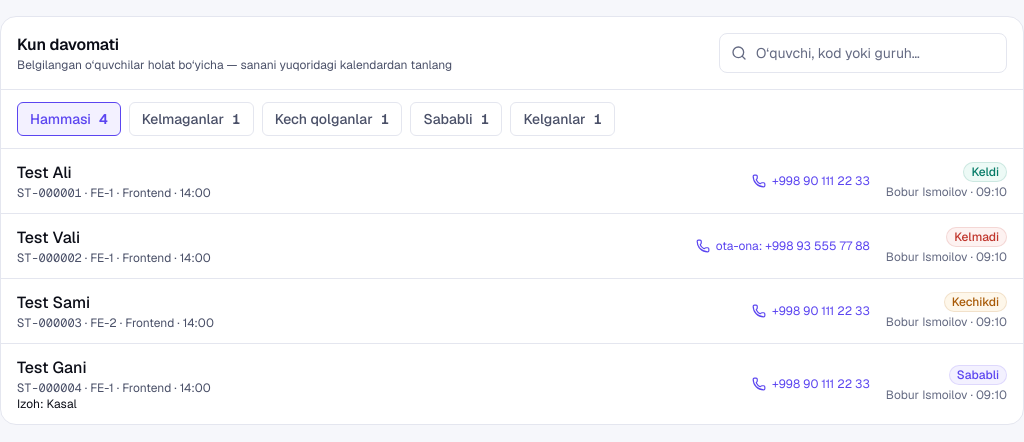
Test: Kun davomati ro‘yxati › tanlangan kun yuklanadi; holat bo‘yicha filtr soni bilan ishlaydi
Expected: the link "Test Ali" is shown, top-left (17, 162), bottom-right (72, 183)
Click the button "Kelmaganlar 1".
click(191, 119)  # box top-left (129, 102), bottom-right (254, 136)
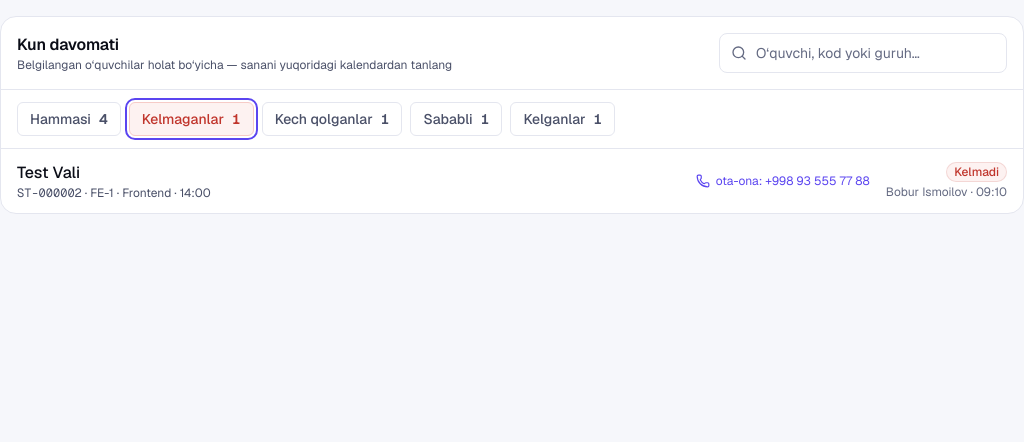
Expected: the link "Test Vali" is shown, top-left (17, 162), bottom-right (80, 183)
Result: the link "Test Ali" is gone
Click the button "Sababli 1".
click(456, 119)  # box top-left (410, 102), bottom-right (502, 136)
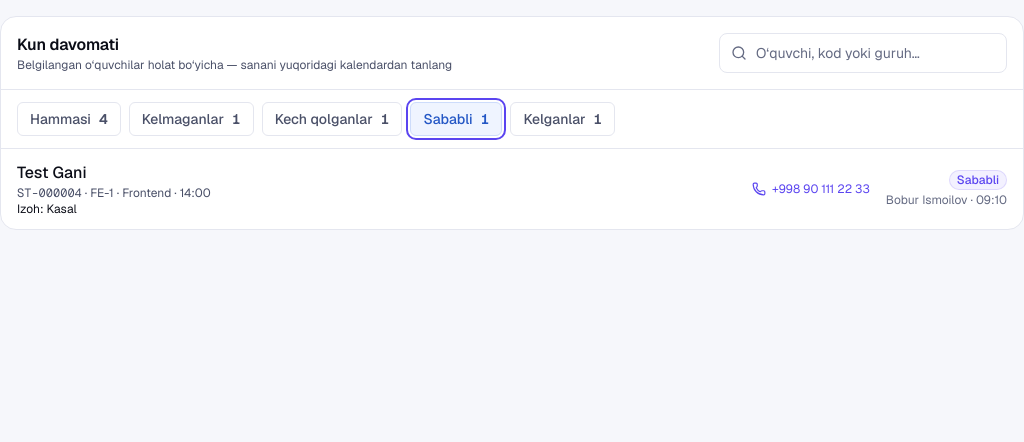
Result: the text "Izoh: Kasal" is shown at top-left (17, 201), bottom-right (77, 217)
Click the button "Kech qolganlar 1".
click(332, 119)  # box top-left (262, 102), bottom-right (402, 136)
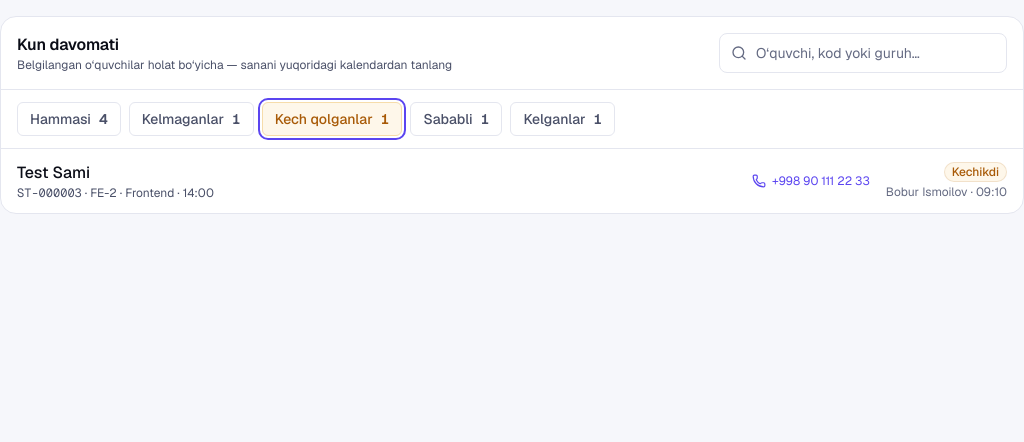
Result: the link "Test Sami" is shown at top-left (17, 162), bottom-right (90, 183)
